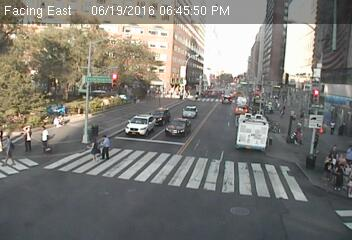neg: (18, 164, 38, 190), (112, 71, 130, 94), (312, 51, 328, 73), (179, 56, 195, 78), (279, 66, 295, 87), (77, 110, 91, 129), (313, 78, 327, 97), (70, 156, 84, 173), (174, 167, 187, 185), (1, 166, 13, 183), (144, 162, 156, 177), (163, 59, 174, 74), (211, 85, 218, 94)
pos: (32, 122, 55, 152), (14, 122, 35, 151), (98, 135, 119, 163), (82, 137, 103, 164), (325, 119, 340, 138), (279, 105, 289, 120)
